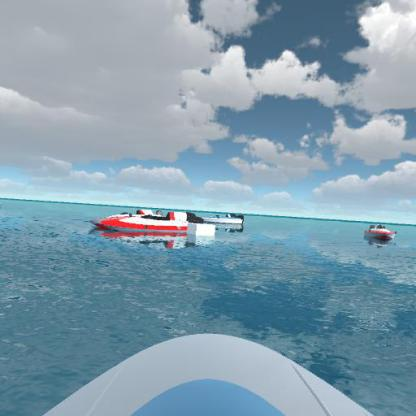usv1: (202, 211, 247, 231)
usv3: (99, 207, 201, 242), (85, 202, 163, 227), (359, 222, 399, 246)
